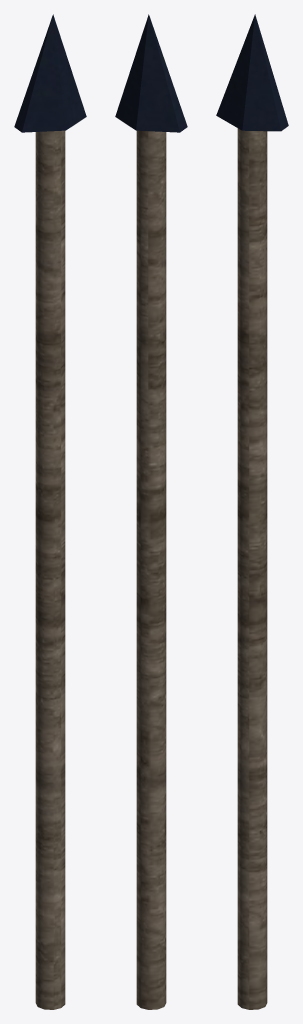
The model's file is Lanza.fbx.
3 views of the same model, side by side, from view 1: azimuth 30°, elevation 25°; view 2: azimuth 150°, elevation 25°; view 3: azimuth 330°, elevation 25° (orthographic).
Visible parts, largest first — view 1: pCylinder6; view 2: pCylinder6; view 3: pCylinder6.
Boxes of the visible parts, <box> form: pCylinder6: <box>14,14,86,1009</box>; pCylinder6: <box>115,14,187,1009</box>; pCylinder6: <box>216,14,288,1009</box>.
Size of the model in its own units: 1.65 by 24 by 1.13.
1 material, 1 textured.
